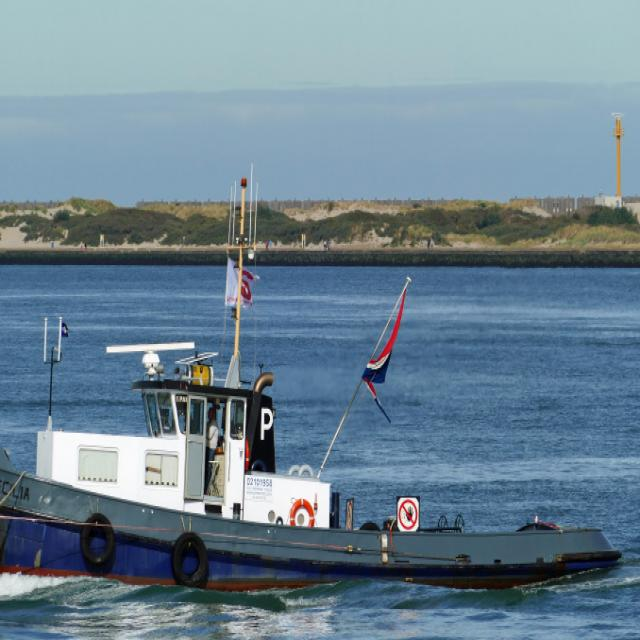tugboat: (1, 157, 630, 610)
